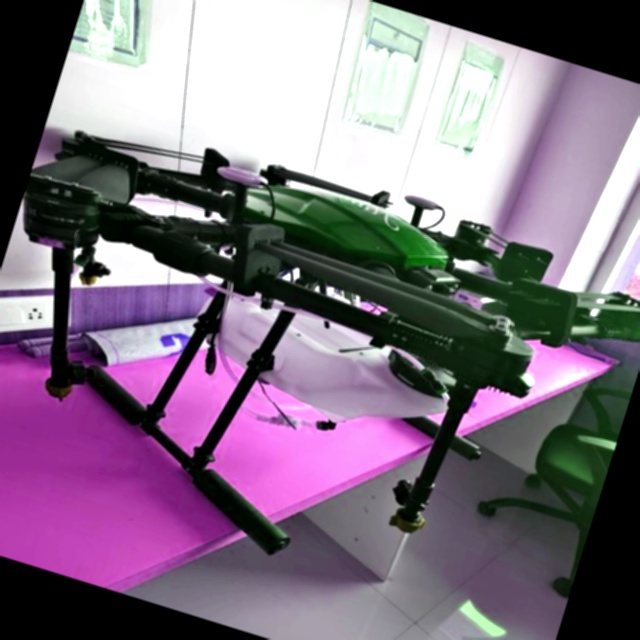agriculturedrone: (0, 76, 640, 640)
